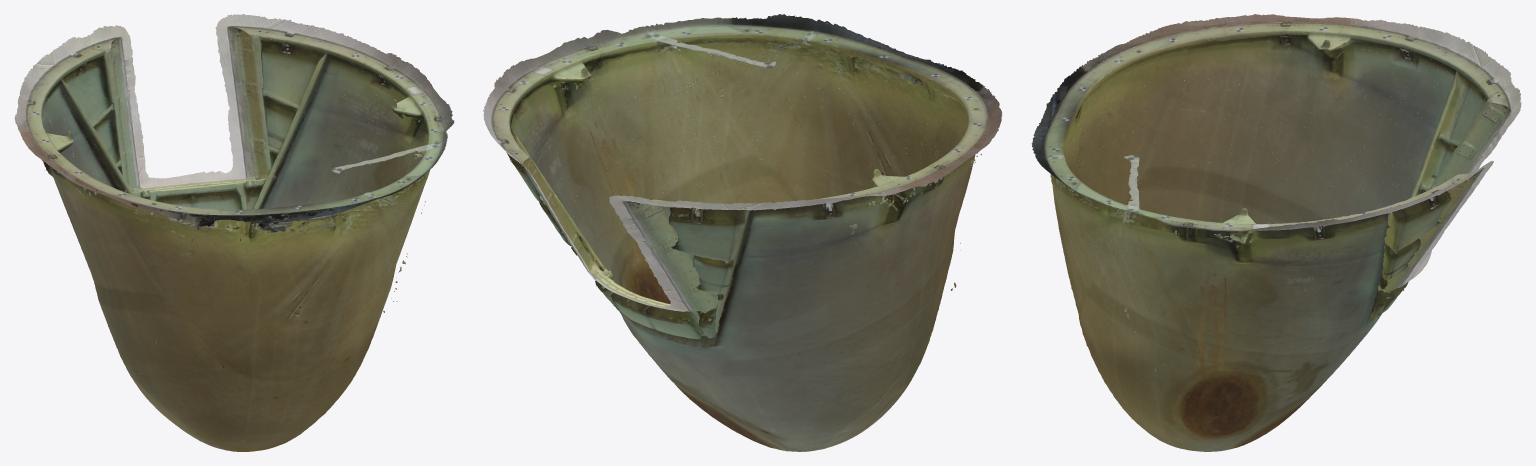
Rendered from radome.glb.
3 renders of one model, left to right at view 1: azimuth 30°, elevation 25°; view 2: azimuth 150°, elevation 25°; view 3: azimuth 270°, elevation 25°, orthographic. The views are drawn at different scales.
Visible parts, largest first — view 1: Object_3, Object_4; view 2: Object_3, Object_4; view 3: Object_3, Object_4.
Part boxes in pixels (x1,y1,x2,y2): Object_3: (14, 14, 454, 451); Object_4: (42, 24, 428, 451); Object_3: (483, 14, 1002, 451); Object_4: (487, 44, 981, 451); Object_3: (1031, 14, 1521, 451); Object_4: (1051, 41, 1516, 451).
Bounding box in the file's own units: 2.13 × 1.69 × 2.14.
1 material, 1 textured.
